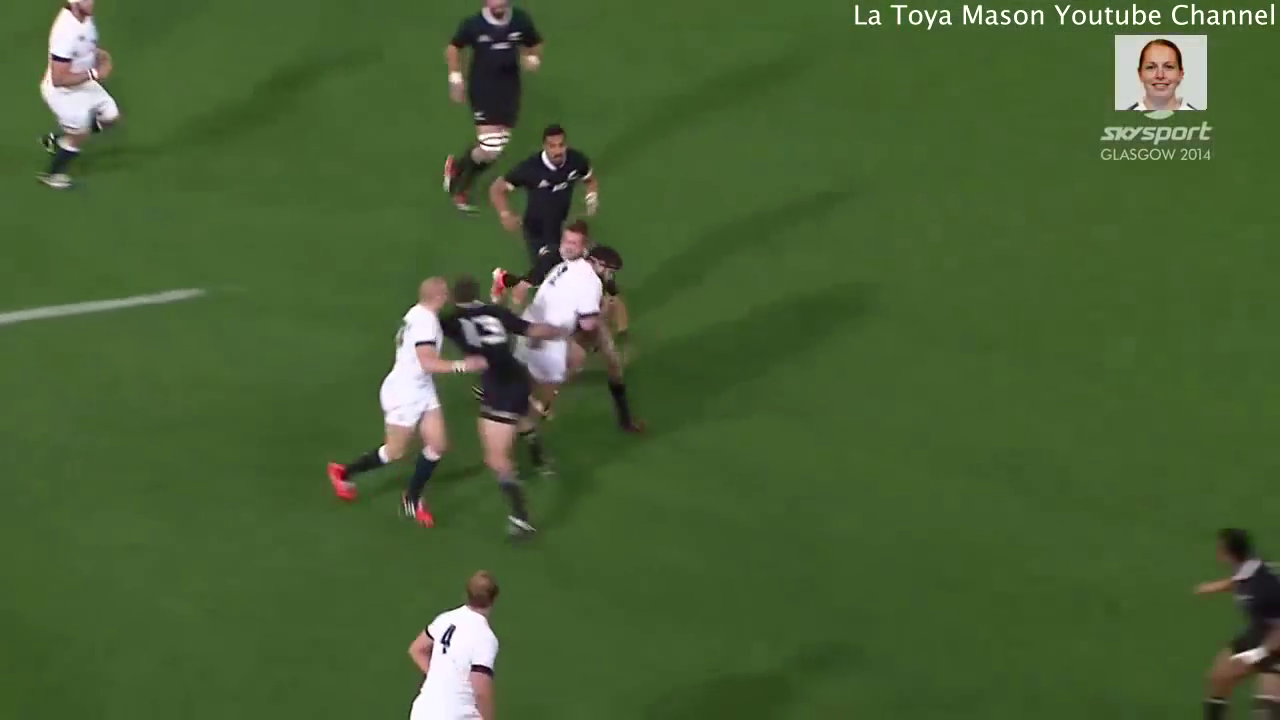player: (315, 272, 500, 533), (430, 267, 565, 548), (433, 1, 551, 219), (479, 120, 612, 311), (19, 1, 139, 200), (512, 236, 623, 441), (1181, 506, 1280, 720), (397, 566, 519, 720)
